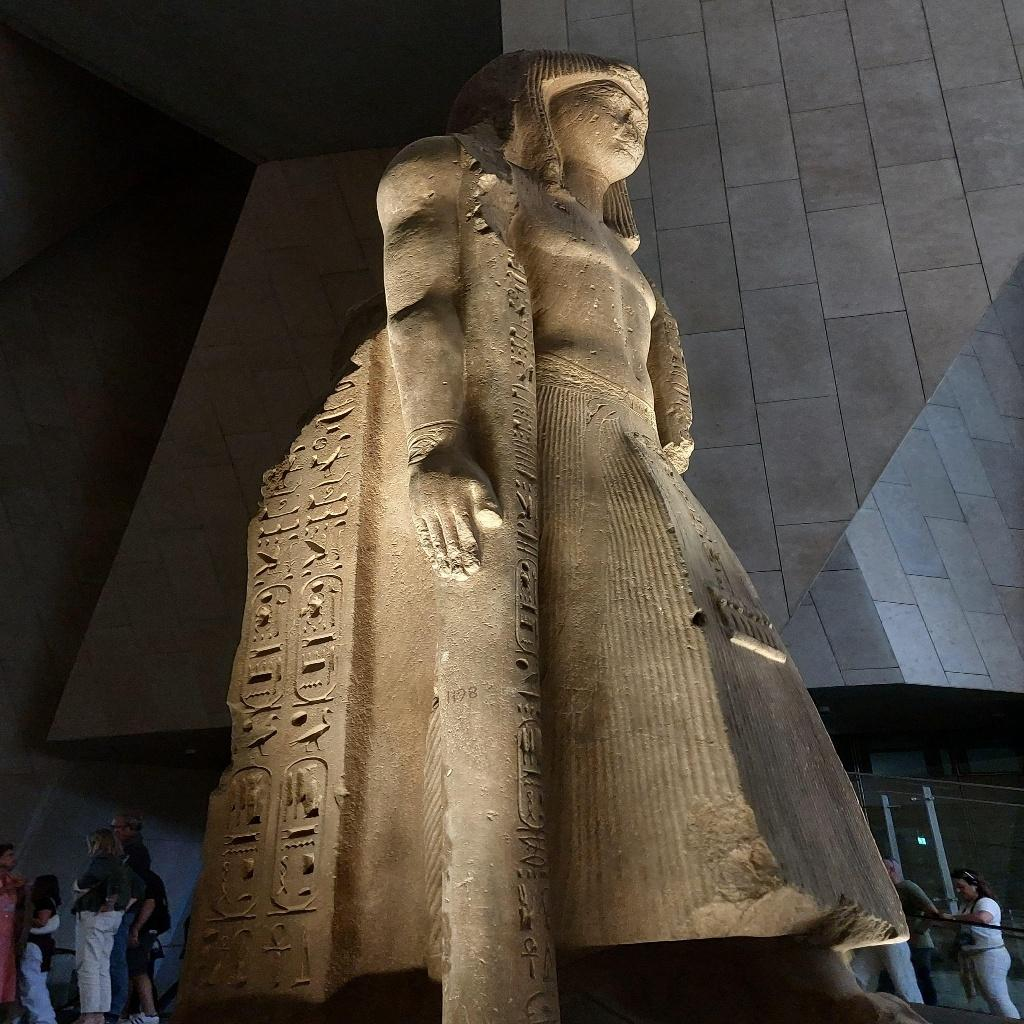Statue of King Sety Il Holding Standards: (166, 38, 942, 1024)
